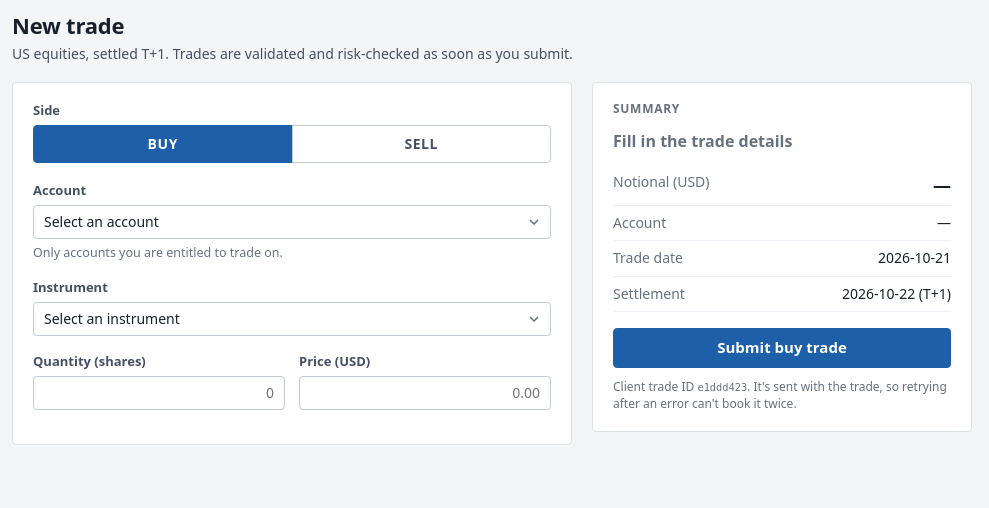
Scenario: new trade form › fills in the reference price and submits the trade
The image size is (989, 508).
Select "ACC-1001 · Harbor Growth Fund" in the dropdown labelled "Account" at (292, 222), box [33, 205, 551, 239]
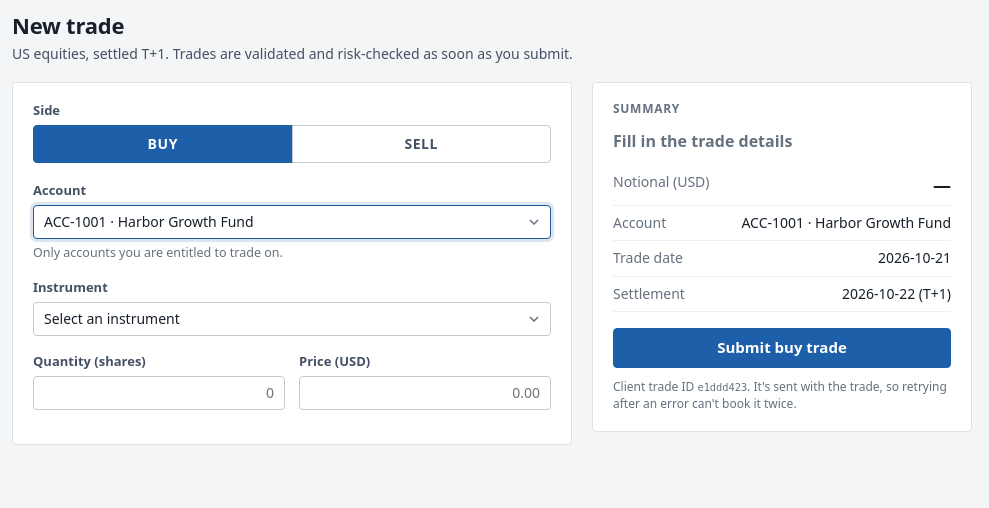
Select "AAPL · Apple Inc." in the dropdown labelled "Instrument" at (292, 319), box [33, 302, 551, 336]
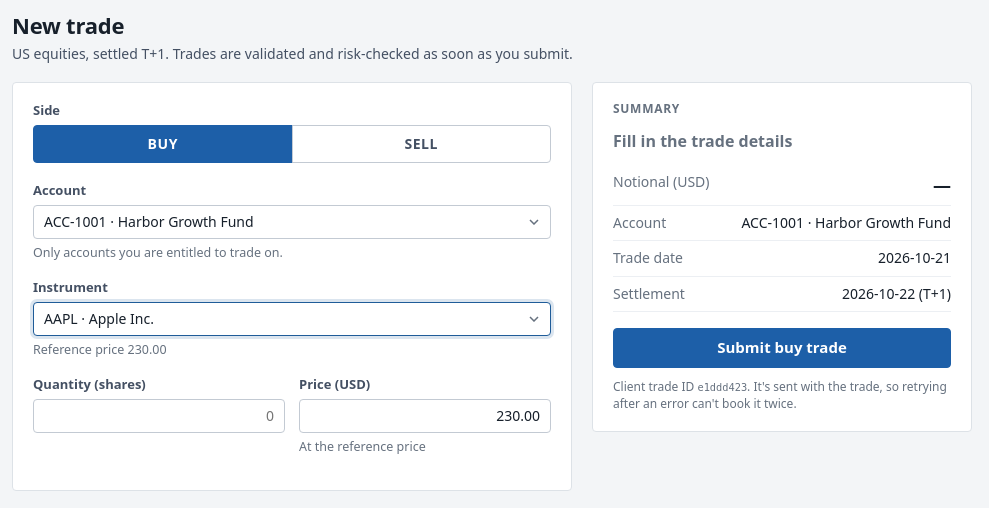
Type "100" into the field labelled "Quantity (shares)" at (159, 416), box [33, 399, 285, 433]
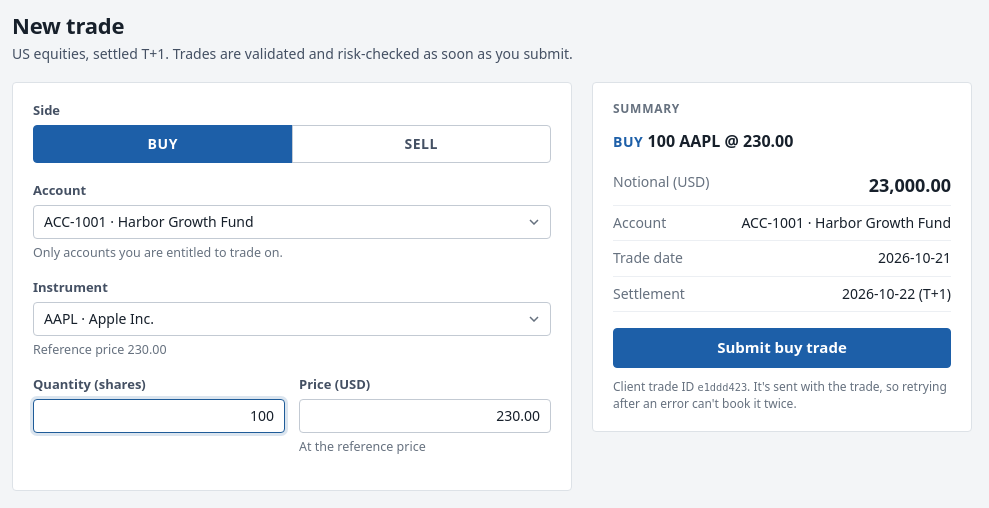
Now the field labelled "Price (USD)" holds "230.00", box [299, 399, 551, 433]
Click the button "Submit buy trade" at (782, 348), box [613, 328, 951, 368]
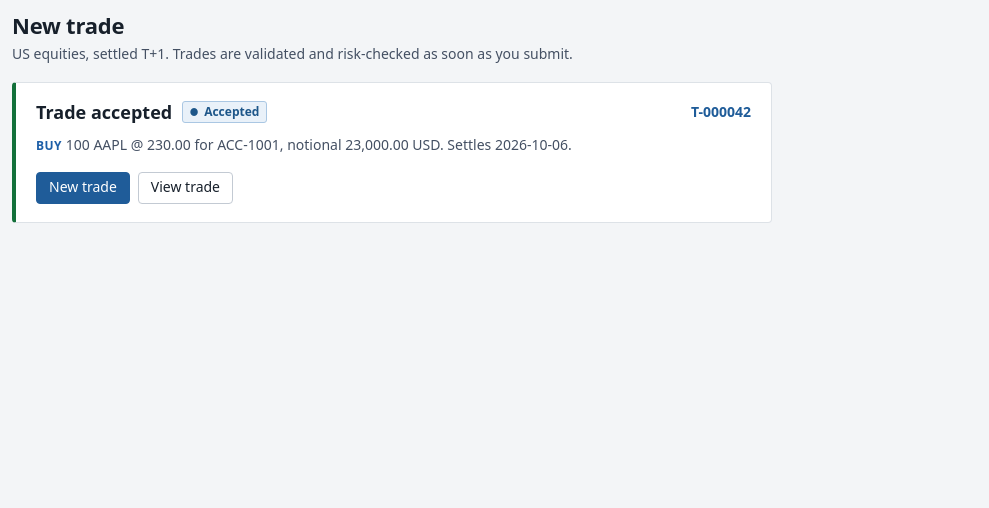
Now the heading "Trade accepted" is shown, box [36, 101, 172, 123]
Now the link "T-000042" is shown, box [691, 102, 751, 122]
